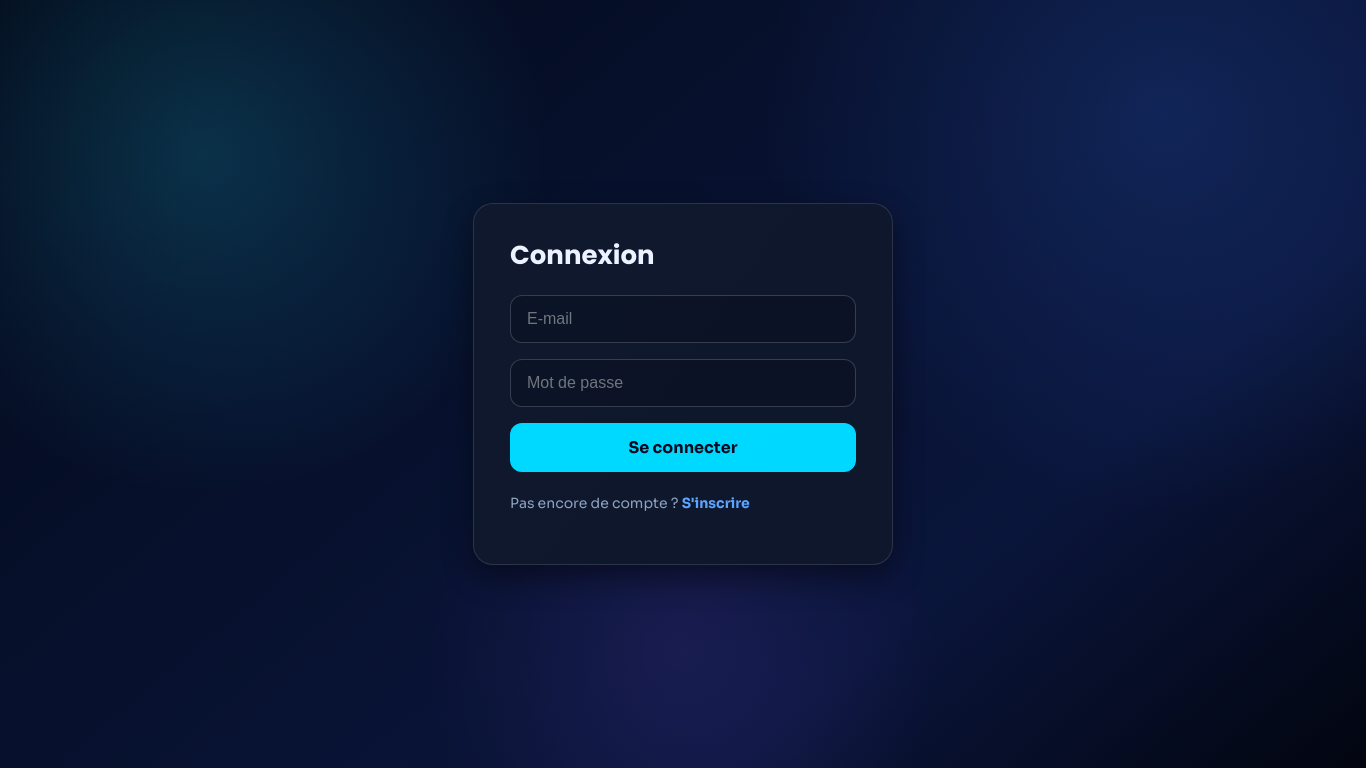
Connexion › refuse si champs vides
# Clic sur le bouton sans remplir les champs
Click the button "Se connecter" at (683, 447), box [510,423,856,472]
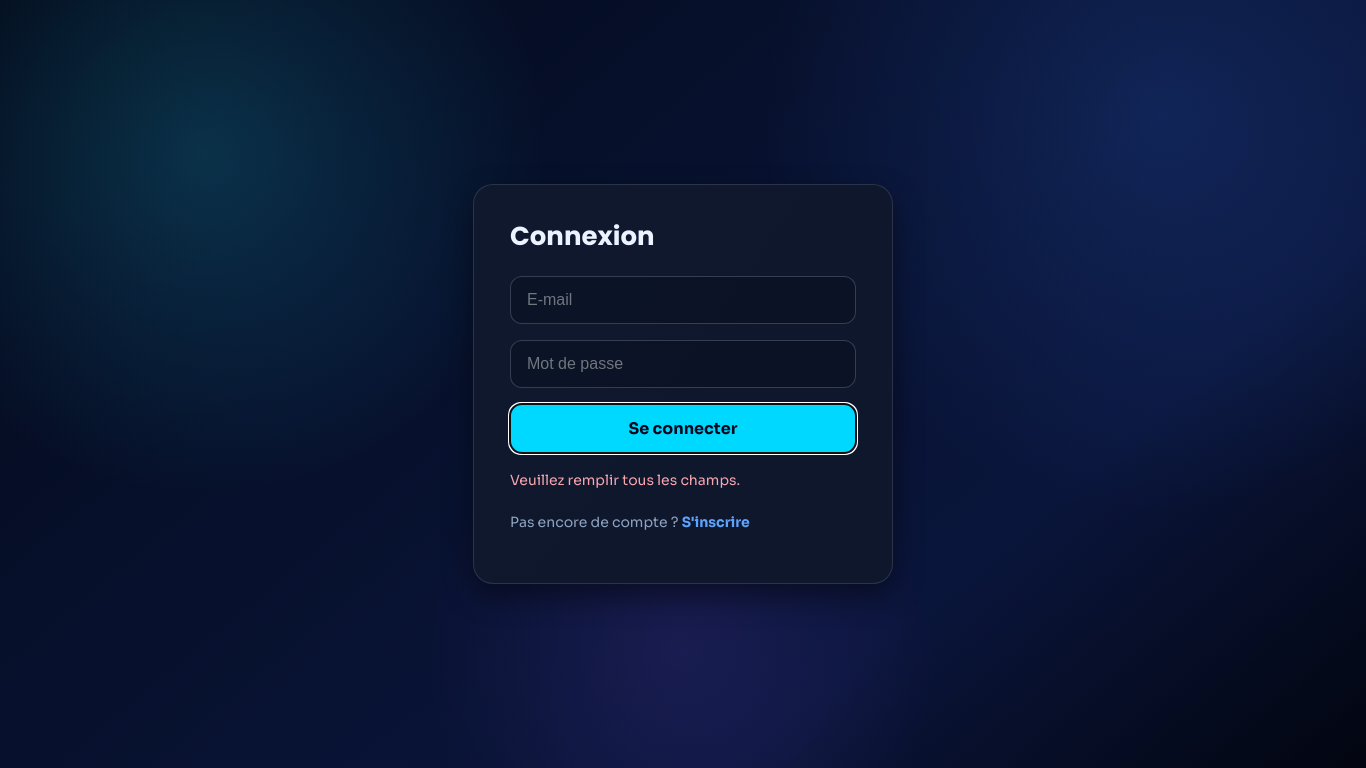
Check: the text "Veuillez remplir tous les champs." is shown, box [510,471,740,489]
